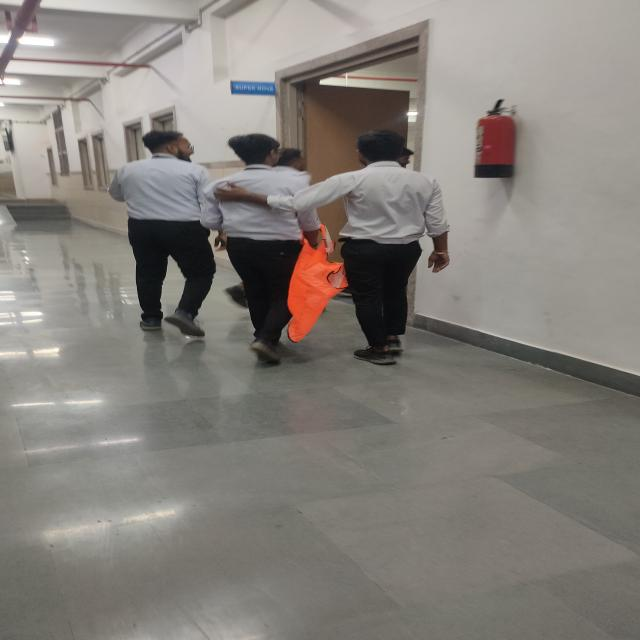unsafe: (115, 130, 219, 338), (344, 138, 426, 372), (214, 134, 295, 361)
